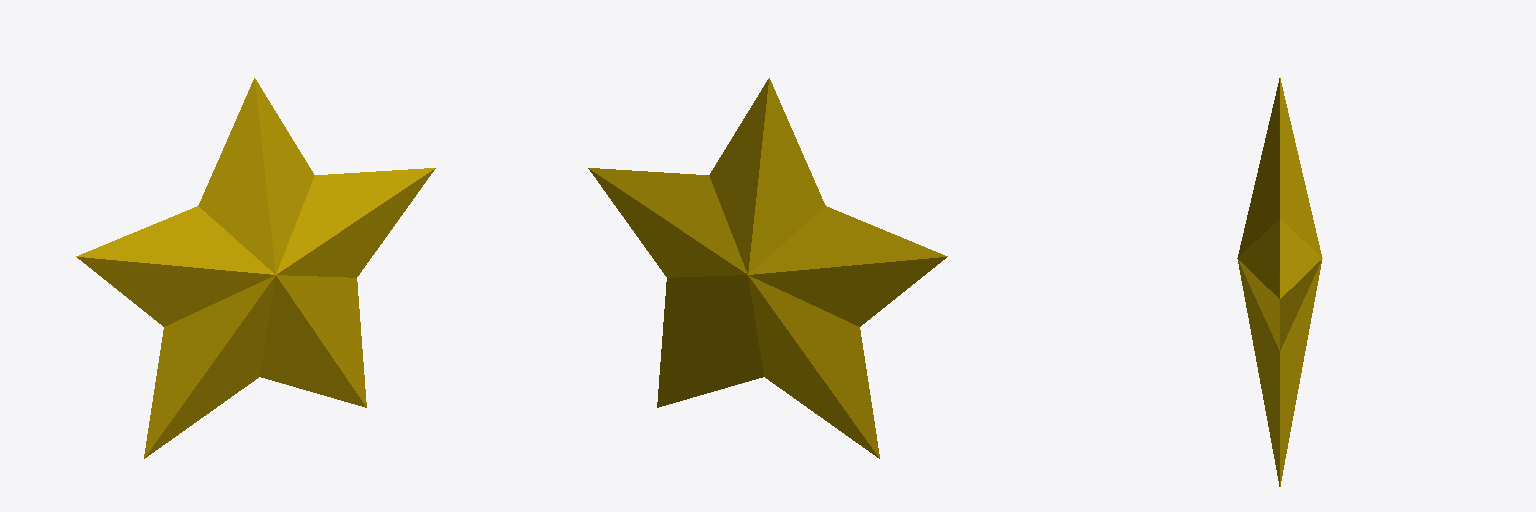
Rendered from star.obj.
The picture shows the model from 3 angles: view 1: azimuth 30°, elevation 25°; view 2: azimuth 150°, elevation 25°; view 3: azimuth 270°, elevation 25°; orthographic projection.
Parts seen in each view (by area): view 1: Plane; view 2: Plane; view 3: Plane.
Part boxes in pixels (left/top/right/bottom): Plane: left=76, top=78, right=435, bottom=458; Plane: left=588, top=78, right=947, bottom=458; Plane: left=1237, top=78, right=1322, bottom=486.
Bounding box in the file's own units: 1.96 × 1.86 × 0.4.